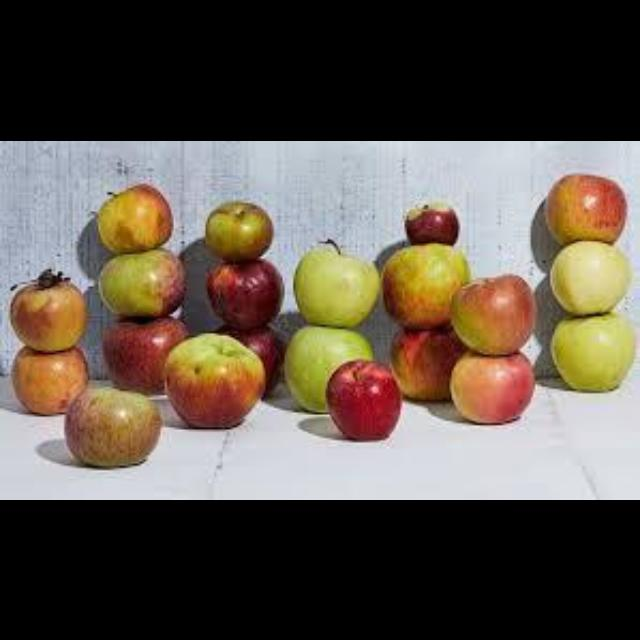apple: (163, 333, 263, 427), (64, 386, 161, 465), (283, 324, 372, 410), (293, 238, 379, 326), (381, 243, 469, 326), (550, 311, 634, 390), (452, 273, 535, 352), (103, 316, 186, 393), (325, 358, 400, 440), (449, 350, 533, 423), (98, 247, 184, 316), (544, 172, 625, 243), (550, 241, 629, 313), (96, 183, 171, 251)
